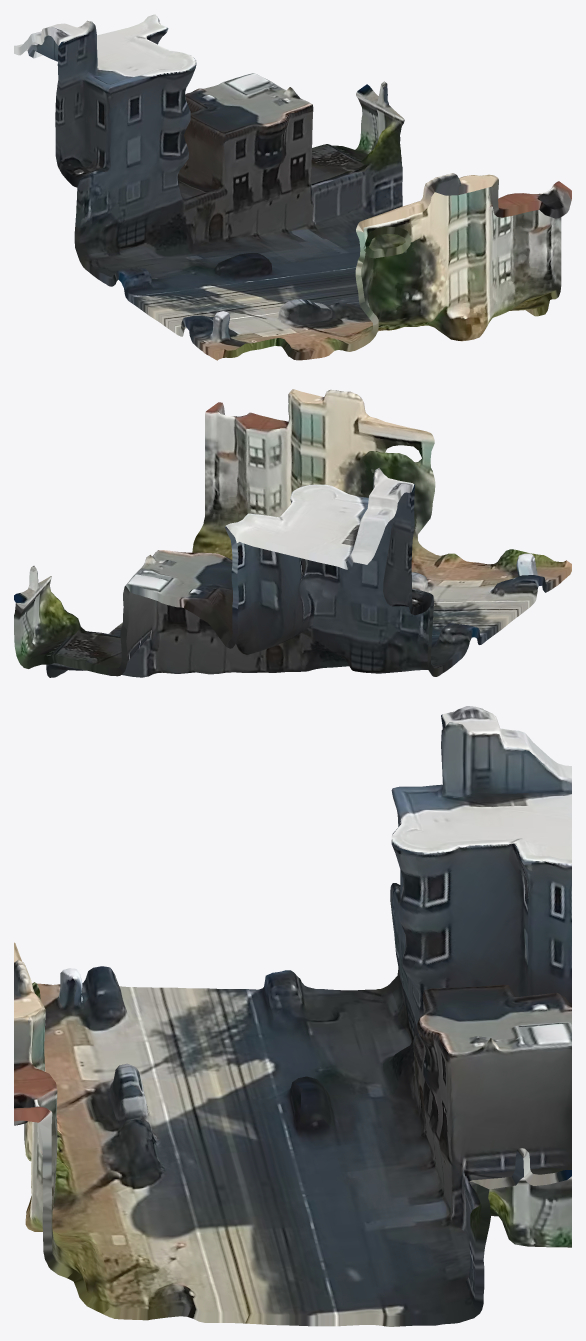
File: z20-167714-405194-h0-yup-uvflip-v3-world.glb
3 renders of one model, top to bottom at view 1: azimuth 30°, elevation 25°; view 2: azimuth 150°, elevation 25°; view 3: azimuth 270°, elevation 25°, orthographic. The views are drawn at different scales.
Bounding box in the file's own units: 30.16 × 23.52 × 30.32.
1 material, 1 textured.
